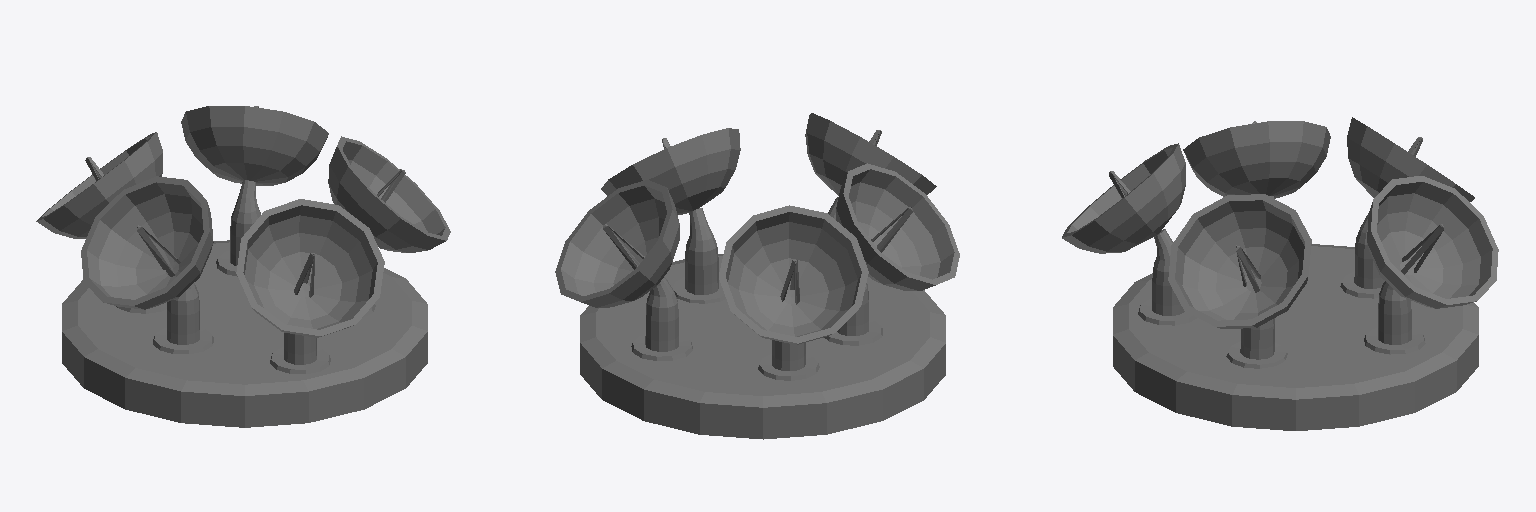
The model's file is area51_tower_satelliteRing_d0.obj.
3 renders of one model, left to right at view 1: azimuth 30°, elevation 25°; view 2: azimuth 150°, elevation 25°; view 3: azimuth 270°, elevation 25°, orthographic.
Visible parts, largest first — view 1: SatelliteBase, satellie1 satellieDish1, satellie2 satellieDish2, satellie4 satellieDish4, satellie5 satellieDish5, satellie3 satellieDish3, satellieDishBot2 satellie2, satellieDishBot1 satellie1, satellieDishBot4 satellie4; view 2: SatelliteBase, satellie3 satellieDish3, satellie4 satellieDish4, satellie2 satellieDish2, satellie5 satellieDish5, satellie1 satellieDish1, satellieDishBot5 satellie5, satellieDishBot4 satellie4, satellieDishBot3 satellie3, satellieDishBot2 satellie2; view 3: SatelliteBase, satellie5 satellieDish5, satellie4 satellieDish4, satellie2 satellieDish2, satellie1 satellieDish1, satellie3 satellieDish3, satellieDishBot4 satellie4, satellieDishBot1 satellie1, satellieDishBot5 satellie5, satellieDishBot3 satellie3.
Boxes of the visible parts, <box> form: SatelliteBase: <box>62,240,427,427</box>; satellie1 satellieDish1: <box>236,199,384,337</box>; satellie2 satellieDish2: <box>81,176,213,309</box>; satellie4 satellieDish4: <box>181,106,328,185</box>; satellie5 satellieDish5: <box>328,136,450,252</box>; satellie3 satellieDish3: <box>36,132,162,238</box>; satellieDishBot2 satellie2: <box>153,283,213,353</box>; satellieDishBot1 satellie1: <box>270,333,330,373</box>; satellieDishBot4 satellie4: <box>216,180,260,276</box>; SatelliteBase: <box>580,254,945,439</box>; satellie3 satellieDish3: <box>719,205,868,344</box>; satellie4 satellieDish4: <box>555,180,679,307</box>; satellie2 satellieDish2: <box>836,163,959,290</box>; satellie5 satellieDish5: <box>601,128,740,214</box>; satellie1 satellieDish1: <box>805,113,936,195</box>; satellieDishBot5 satellie5: <box>673,208,725,303</box>; satellieDishBot4 satellie4: <box>631,276,692,360</box>; satellieDishBot3 satellie3: <box>758,340,819,380</box>; satellieDishBot2 satellie2: <box>824,283,882,345</box>; SatelliteBase: <box>1113,244,1478,430</box>; satellie5 satellieDish5: <box>1168,194,1311,328</box>; satellie4 satellieDish4: <box>1367,176,1498,308</box>; satellie2 satellieDish2: <box>1183,121,1330,198</box>; satellie1 satellieDish1: <box>1062,143,1185,253</box>; satellie3 satellieDish3: <box>1347,117,1474,201</box>; satellieDishBot4 satellie4: <box>1364,281,1425,354</box>; satellieDishBot1 satellie1: <box>1138,229,1196,325</box>; satellieDishBot5 satellie5: <box>1226,318,1287,368</box>; satellieDishBot3 satellie3: <box>1340,213,1384,298</box>.
Bounding box in the file's own units: 7.55 × 4.17 × 8.4.